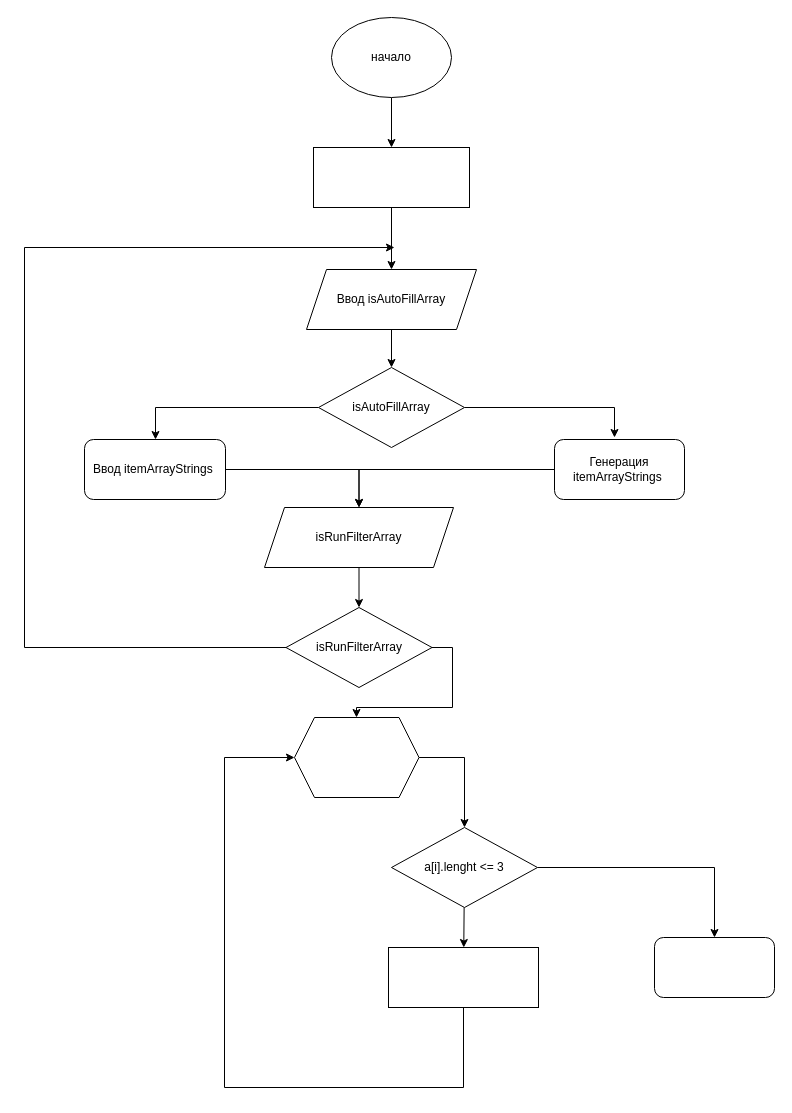
Image size: 792x1113. Some labels were removed from this diagram. The shapes that lost their labels are listed below. From the top down, each one's centre as x and y in pixels, then its label:
At [391,177]: "initStrings =[]; isRunFilterArray =false; resultStrings=[]".
At [356,757]: "i = 1, n".
At [463,977]: "resultStrings.add(item)".
At [714,967]: "Вывод resultStrings".
